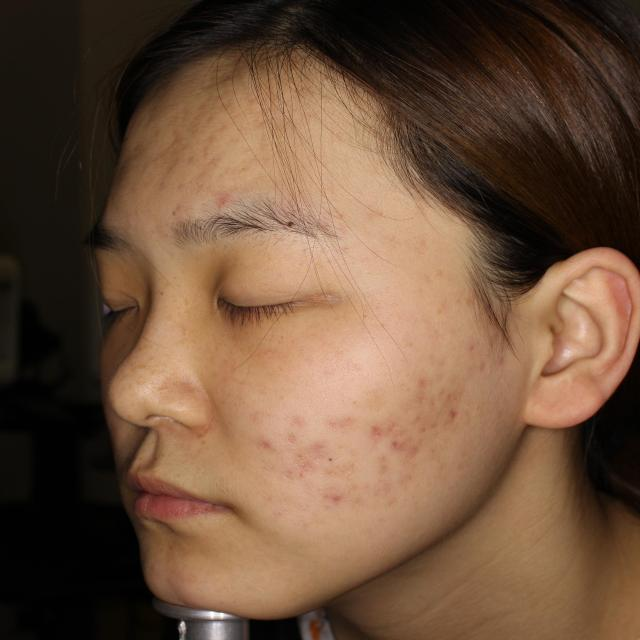acne: (206, 184, 236, 211), (250, 427, 276, 457), (436, 402, 469, 424), (274, 410, 303, 435), (322, 485, 348, 512), (300, 437, 330, 459), (383, 435, 409, 459), (284, 461, 309, 485), (412, 411, 434, 433), (365, 421, 387, 442), (409, 438, 427, 462), (432, 383, 454, 397), (327, 413, 347, 428), (412, 371, 421, 387)
